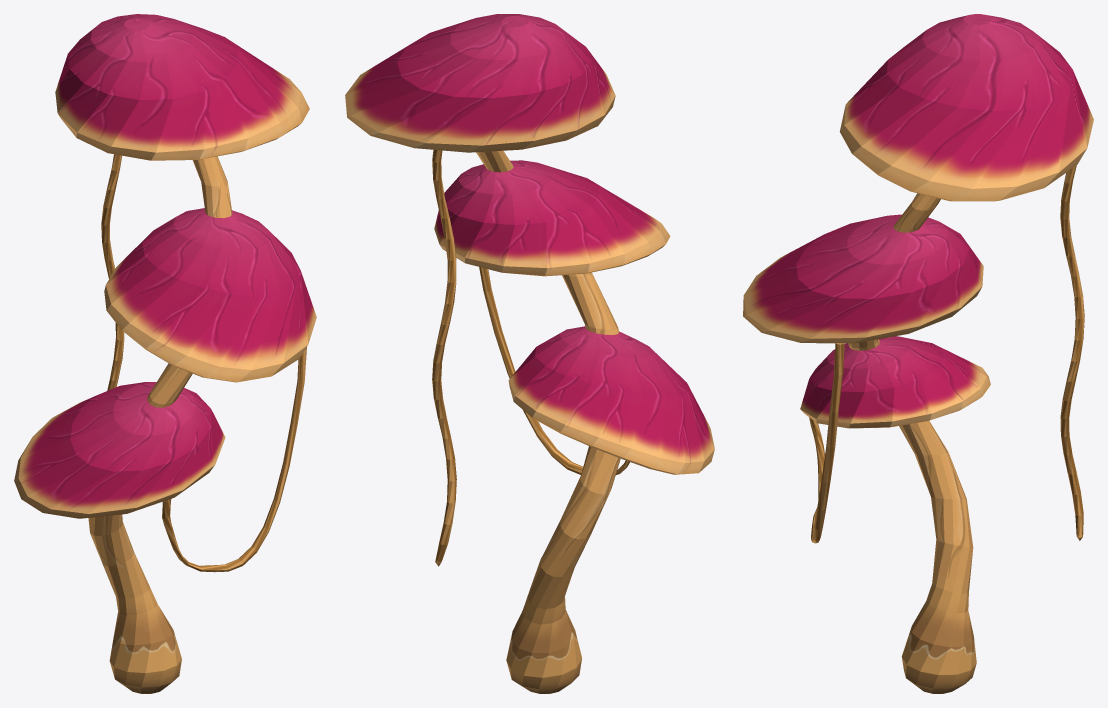
Rendered from Mushroom1.fbx.
3 renders of one model, left to right at view 1: azimuth 30°, elevation 25°; view 2: azimuth 150°, elevation 25°; view 3: azimuth 270°, elevation 25°, orthographic. The views are drawn at different scales.
Visible parts, largest first — view 1: Cylinder.001; view 2: Cylinder.001; view 3: Cylinder.001.
Boxes of the visible parts, box(x1,y1,x2,y2) form: Cylinder.001: box(14, 14, 316, 693); Cylinder.001: box(345, 14, 714, 693); Cylinder.001: box(743, 14, 1093, 693).
Bounding box in the file's own units: 547 × 1129 × 535.
Materials: 1 (1 with a texture image).
